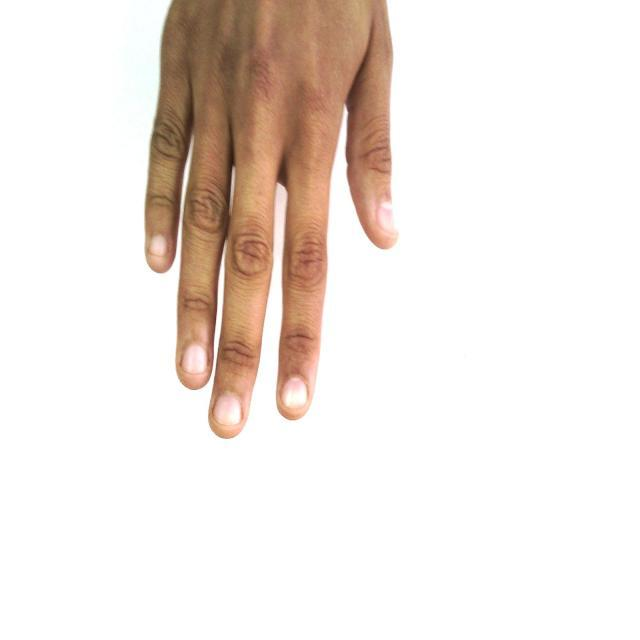Fingernail: (215, 394, 240, 426), (282, 378, 307, 409), (183, 345, 206, 374), (378, 204, 396, 234), (151, 235, 167, 257)
